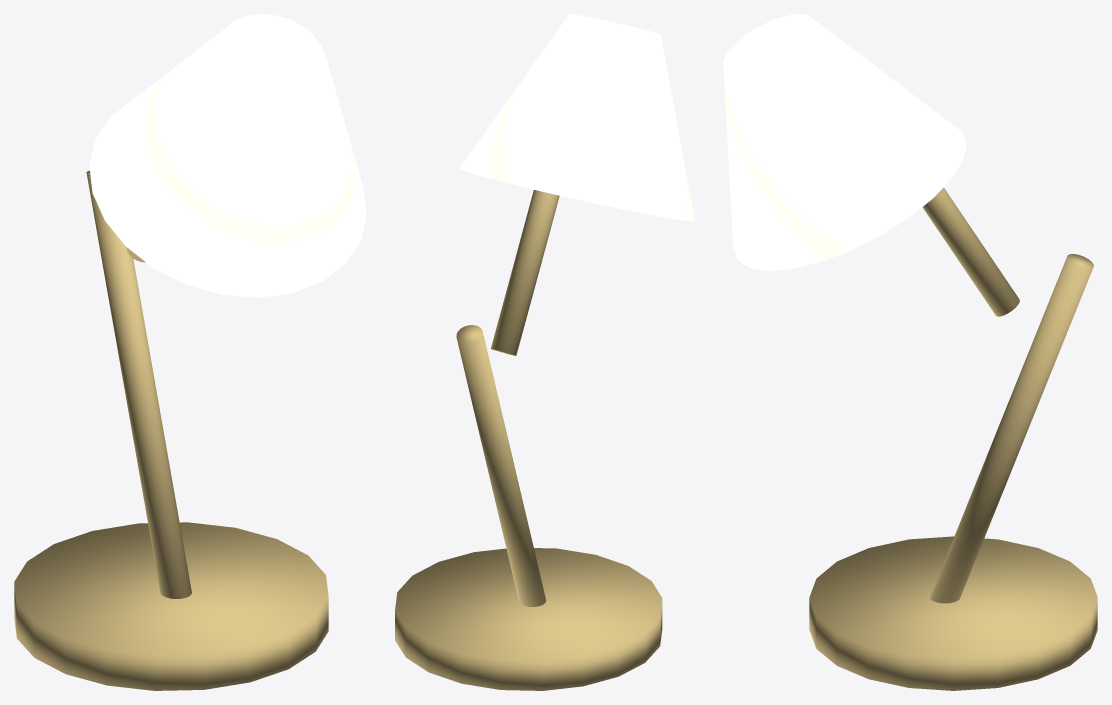
File: lamp_desk.glb
3 renders of one model, left to right at view 1: azimuth 30°, elevation 25°; view 2: azimuth 150°, elevation 25°; view 3: azimuth 270°, elevation 25°, orthographic. The views are drawn at different scales.
Parts seen in each view (by area): view 1: Hood, DeskBase, Arm1; view 2: Hood, DeskBase, Arm1, Arm2; view 3: Hood, DeskBase, Arm1, Arm2.
Part boxes in pixels (x1,y1,x2,y2): Hood: (89, 14, 366, 297); DeskBase: (14, 522, 328, 690); Arm1: (86, 170, 191, 598); Hood: (459, 14, 694, 221); DeskBase: (395, 548, 662, 690); Arm1: (456, 325, 546, 606); Arm2: (491, 190, 559, 355); Hood: (723, 14, 966, 270); DeskBase: (809, 536, 1097, 690); Arm1: (930, 254, 1093, 603); Arm2: (922, 187, 1019, 316).
Bounding box in the file's own units: 0.2 × 0.4643 × 0.2598.
